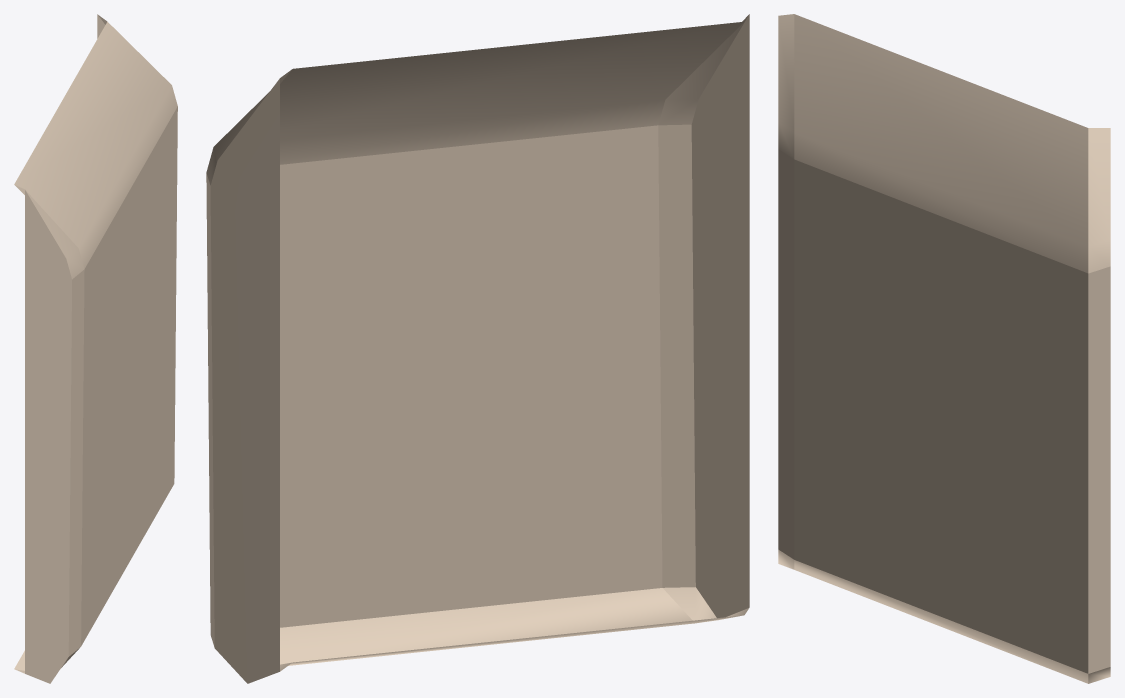
File: Module_Ss_wall_1X_J1.FBX
The picture shows the model from 3 angles, left to right: view 1: azimuth 30°, elevation 25°; view 2: azimuth 150°, elevation 25°; view 3: azimuth 270°, elevation 25°; orthographic projection. The views are drawn at different scales.
Visible parts, largest first — view 1: Module_Ss_wall_1X_J1; view 2: Module_Ss_wall_1X_J1; view 3: Module_Ss_wall_1X_J1.
Boxes of the visible parts, x1,y1,x2,y2 form: Module_Ss_wall_1X_J1: (14,14,177,683); Module_Ss_wall_1X_J1: (206,14,749,683); Module_Ss_wall_1X_J1: (778,14,1110,683).
Size of the model in its own units: 24.47 by 39.31 by 21.86.
